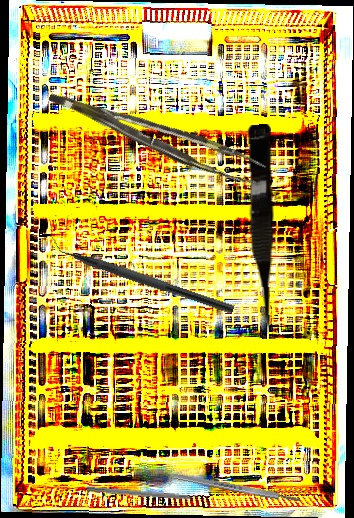Chopper: (44, 232, 239, 314)
Hook Surgical: (86, 485, 207, 504)
Micro Scissor: (243, 124, 279, 335)
Scalpel Handle: (173, 471, 301, 505)
Tissue Forceps: (47, 66, 268, 200)
